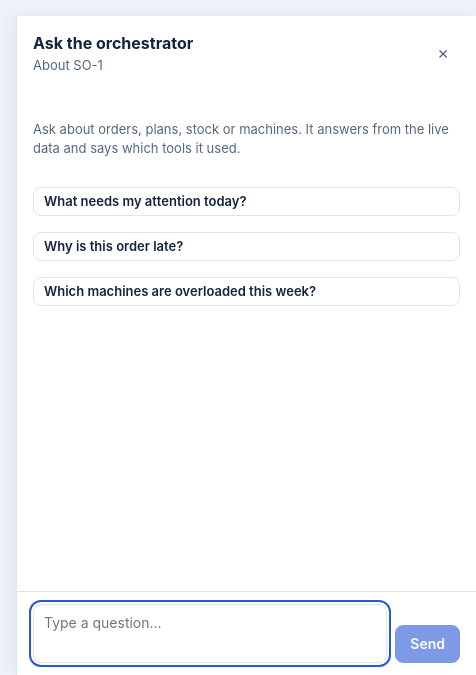
chat › streams the reply and shows the tools used
Expected: the text "About SO-1" is shown, [33,57,103,73]
In the text box named "Message": [210, 634] box [33,604,387,663], type "Is it late?"
Then press Enter
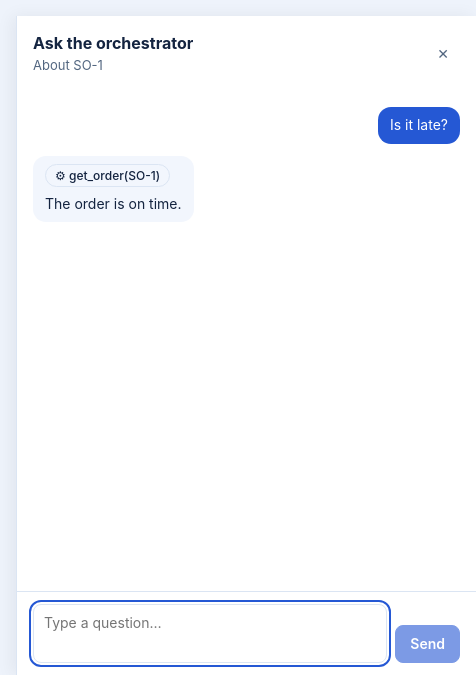
Expected: the text "Is it late?" is shown, [378,108,460,144]
Expected: the text "The order is on time." is shown, [45,193,182,214]
Expected: the text "⚙ get_order(SO-1)" is shown, [45,164,170,187]
